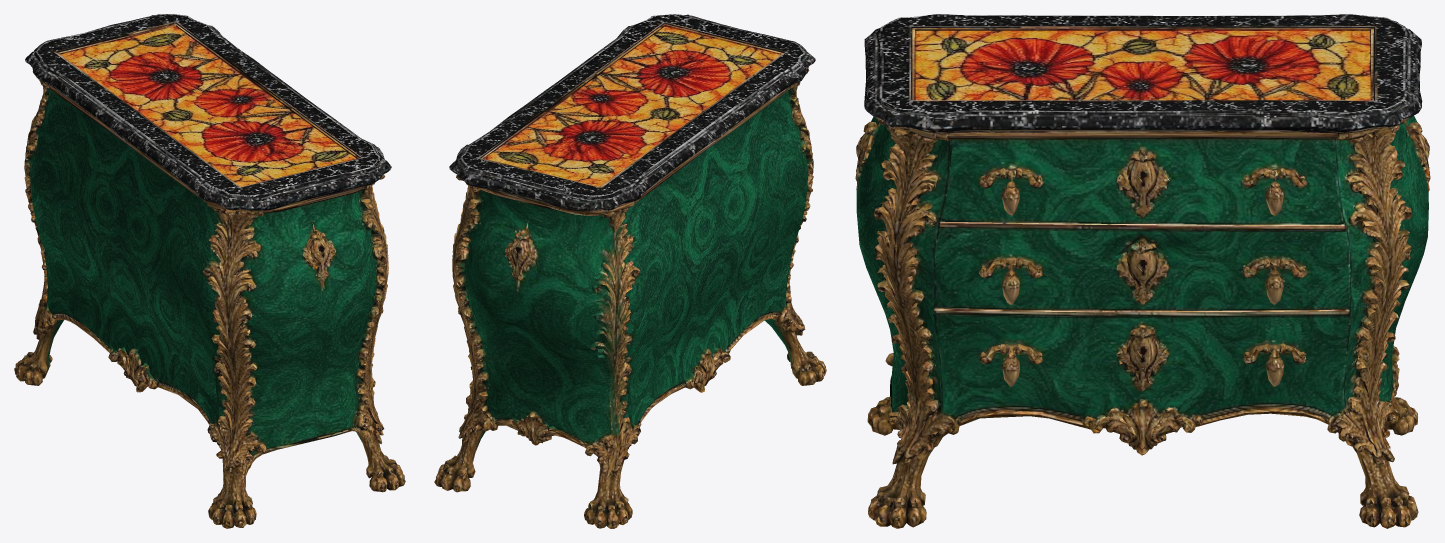
Rendered from MO-03_dresser_game.glb.
3 renders of one model, left to right at view 1: azimuth 30°, elevation 25°; view 2: azimuth 150°, elevation 25°; view 3: azimuth 270°, elevation 25°, orthographic. The views are drawn at different scales.
Parts seen in each view (by area): view 1: MO-03_dresser; view 2: MO-03_dresser; view 3: MO-03_dresser.
Boxes of the visible parts, x1,y1,x2,y2 form: MO-03_dresser: [14, 14, 405, 528]; MO-03_dresser: [434, 14, 826, 528]; MO-03_dresser: [855, 14, 1430, 528].
Size of the model in its own units: 0.5499 by 0.88 by 1.12.
1 material, 1 textured.
